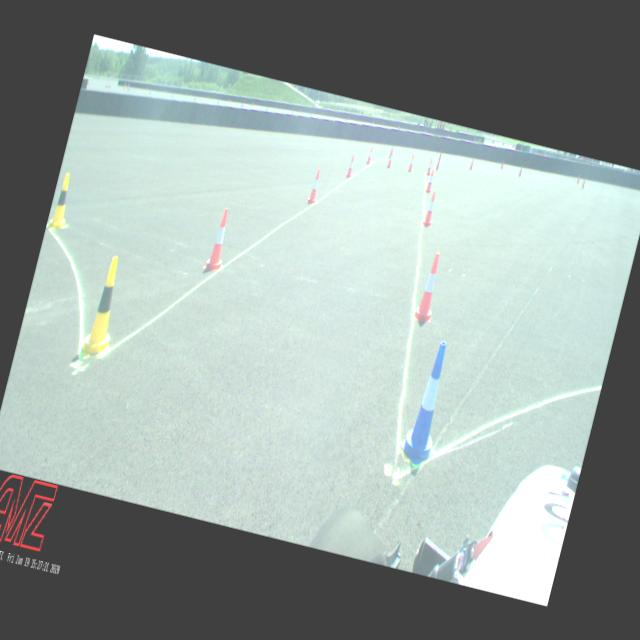blue_cone: (396, 336, 460, 467)
orange_cone: (412, 251, 447, 324), (203, 208, 236, 274), (306, 168, 324, 206), (422, 190, 438, 228), (424, 168, 436, 192), (345, 154, 356, 178), (366, 146, 374, 164), (426, 157, 434, 175), (407, 154, 415, 172), (386, 150, 394, 168)
yellow_cone: (79, 254, 130, 364), (46, 171, 80, 233)
